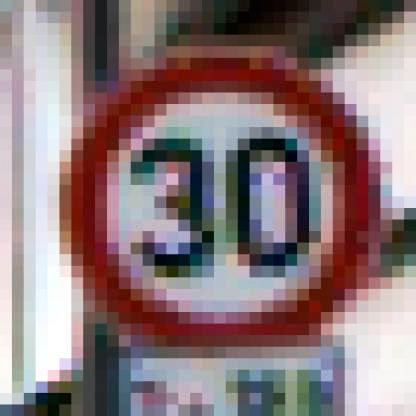Speed Limit -30-: (63, 46, 384, 360)
